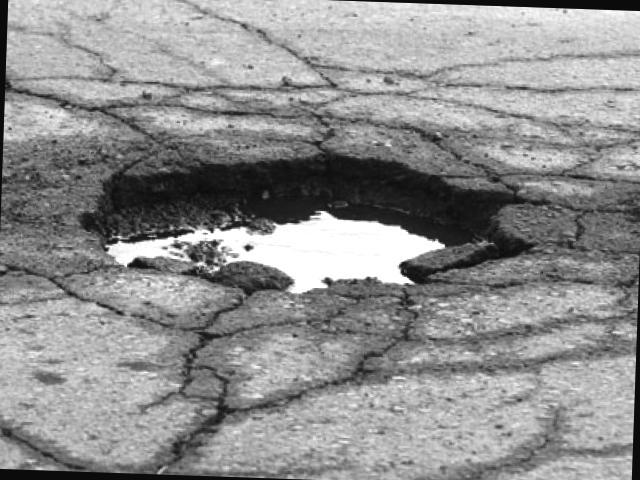Pothole: (64, 138, 530, 304)
